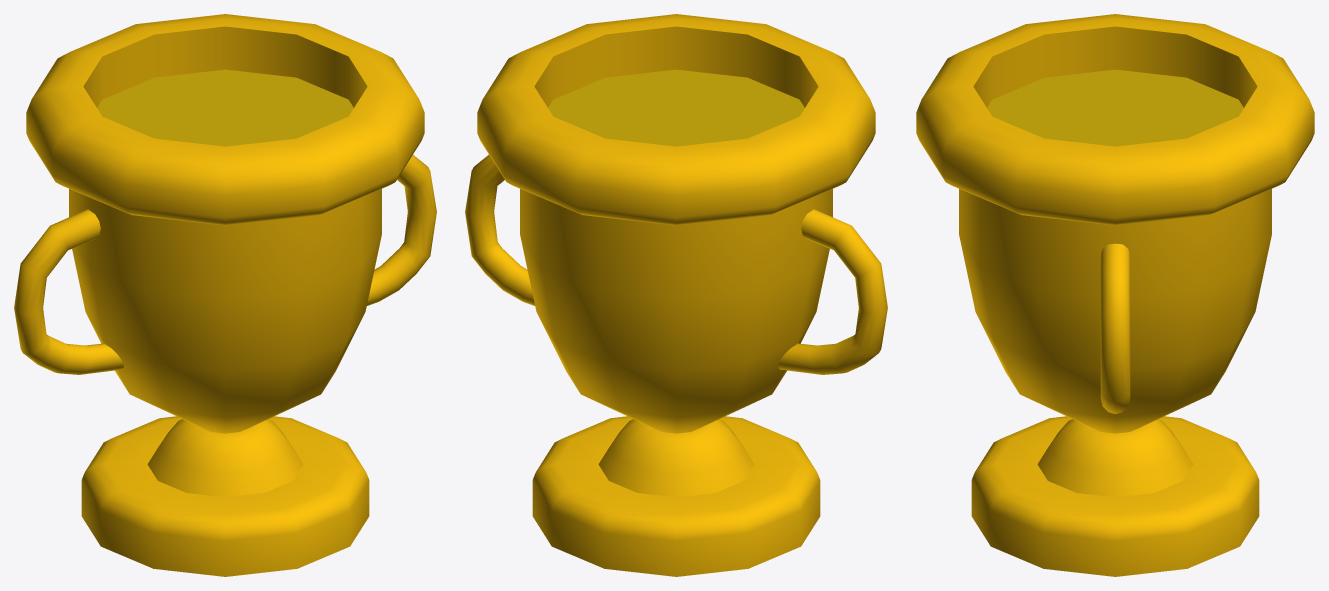
Rendered from Sport Cup_2.fbx.
3 views of the same model, side by side, from view 1: azimuth 30°, elevation 25°; view 2: azimuth 150°, elevation 25°; view 3: azimuth 270°, elevation 25° (orthographic).
Parts seen in each view (by area): view 1: Sport Cup_2; view 2: Sport Cup_2; view 3: Sport Cup_2.
Part boxes in pixels (x1=…): Sport Cup_2: x1=14, y1=14, x2=436, y2=576; Sport Cup_2: x1=465, y1=14, x2=887, y2=576; Sport Cup_2: x1=916, y1=14, x2=1314, y2=576.
Bounding box in the file's own units: 0.2712 × 0.2659 × 0.2233.
